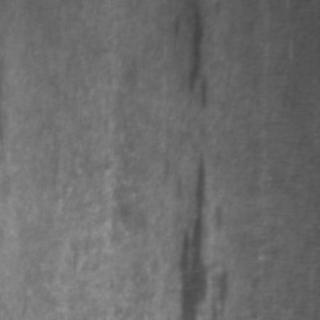inclusion: (168, 144, 220, 316), (178, 0, 216, 110)
